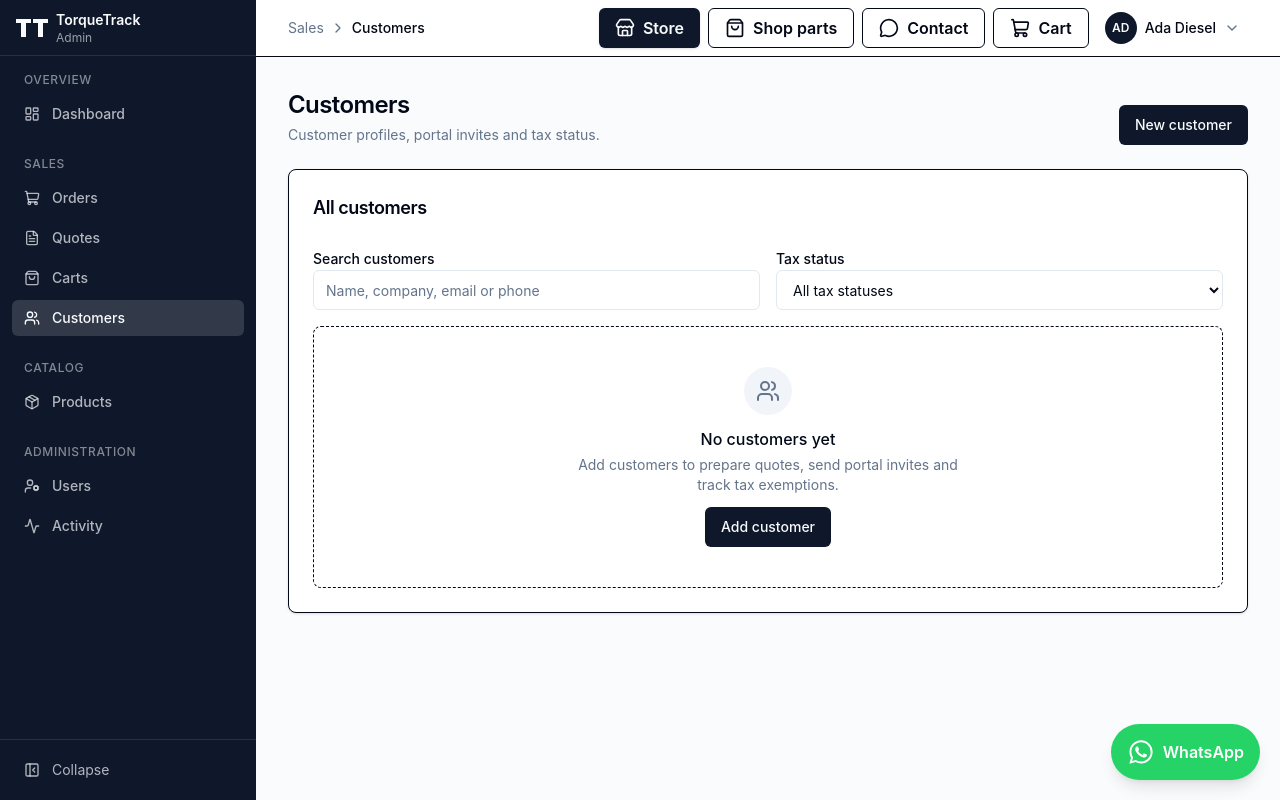
it: CustomersPage › shows the 409 when the email belongs to another customer
This screenshot has width=1280, height=800.
Click the button "New customer" at {"x": 1183, "y": 125}, box [1119, 105, 1248, 145]
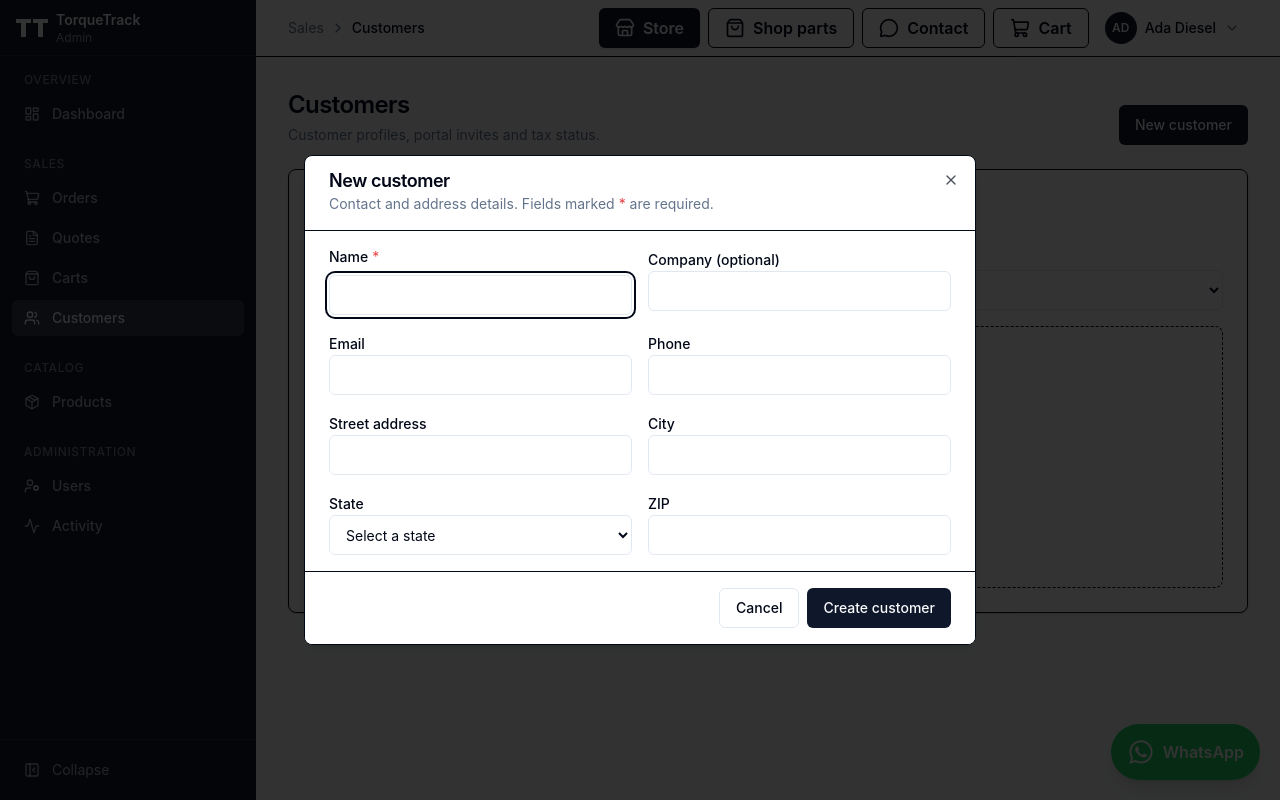
Type "Pat Fleet" into the field labelled "Name" at {"x": 480, "y": 295}, box [329, 275, 632, 315]
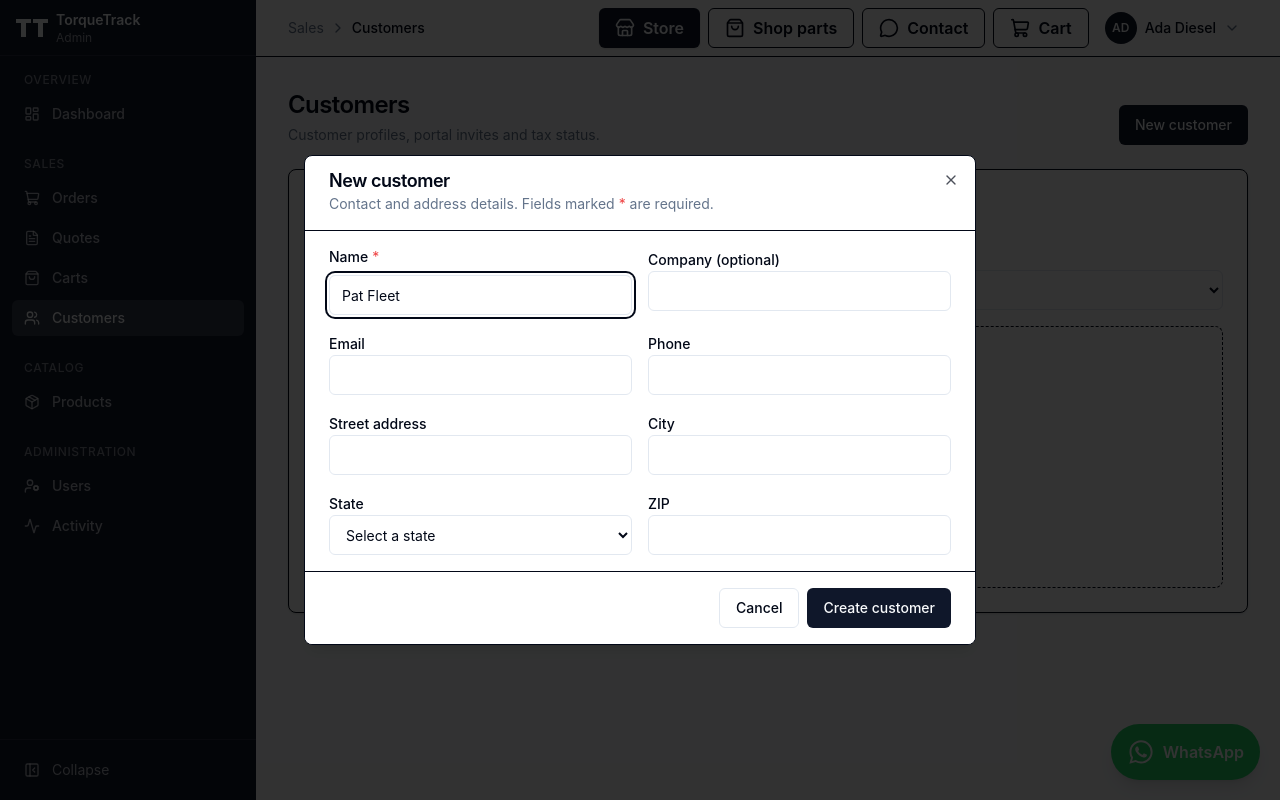
Type "pat@example.com" into the field labelled "Email" at {"x": 480, "y": 375}, box [329, 355, 632, 395]
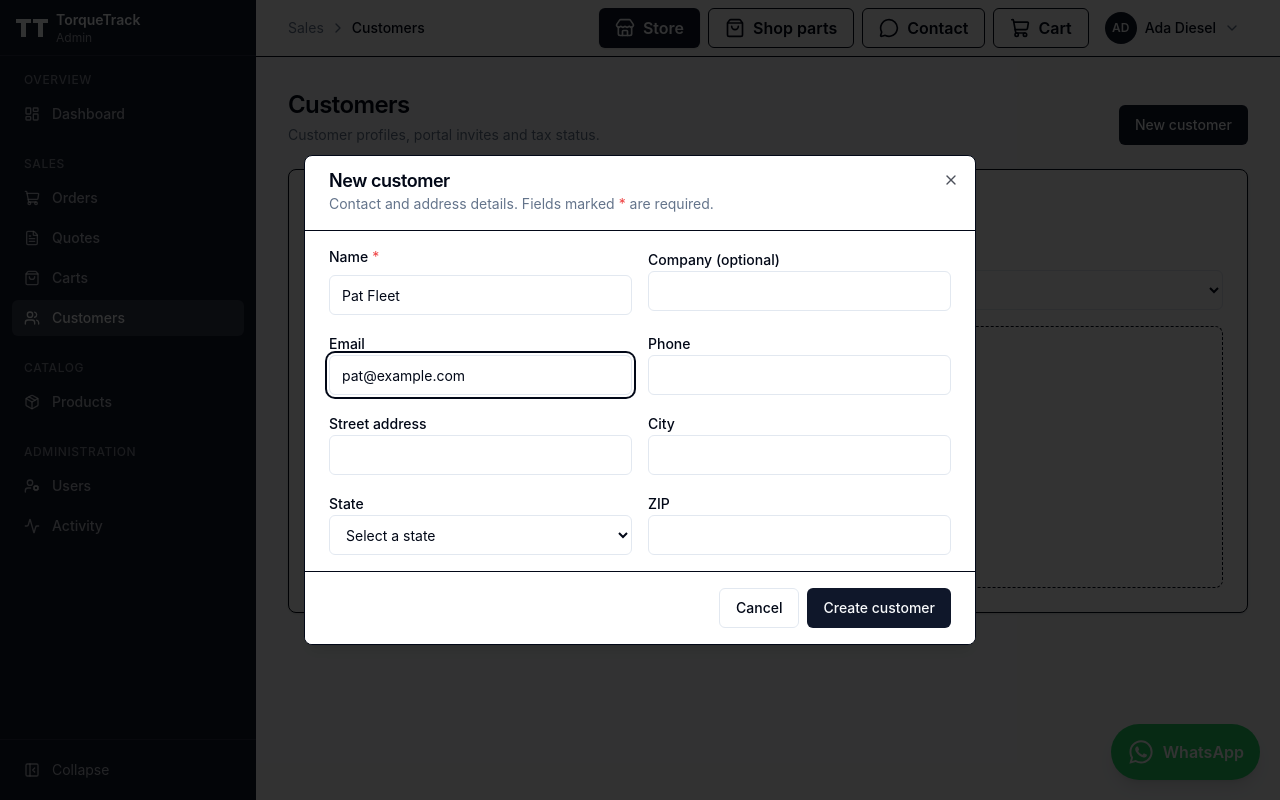
Click the button "Create customer" at {"x": 879, "y": 608}, box [808, 588, 951, 628]
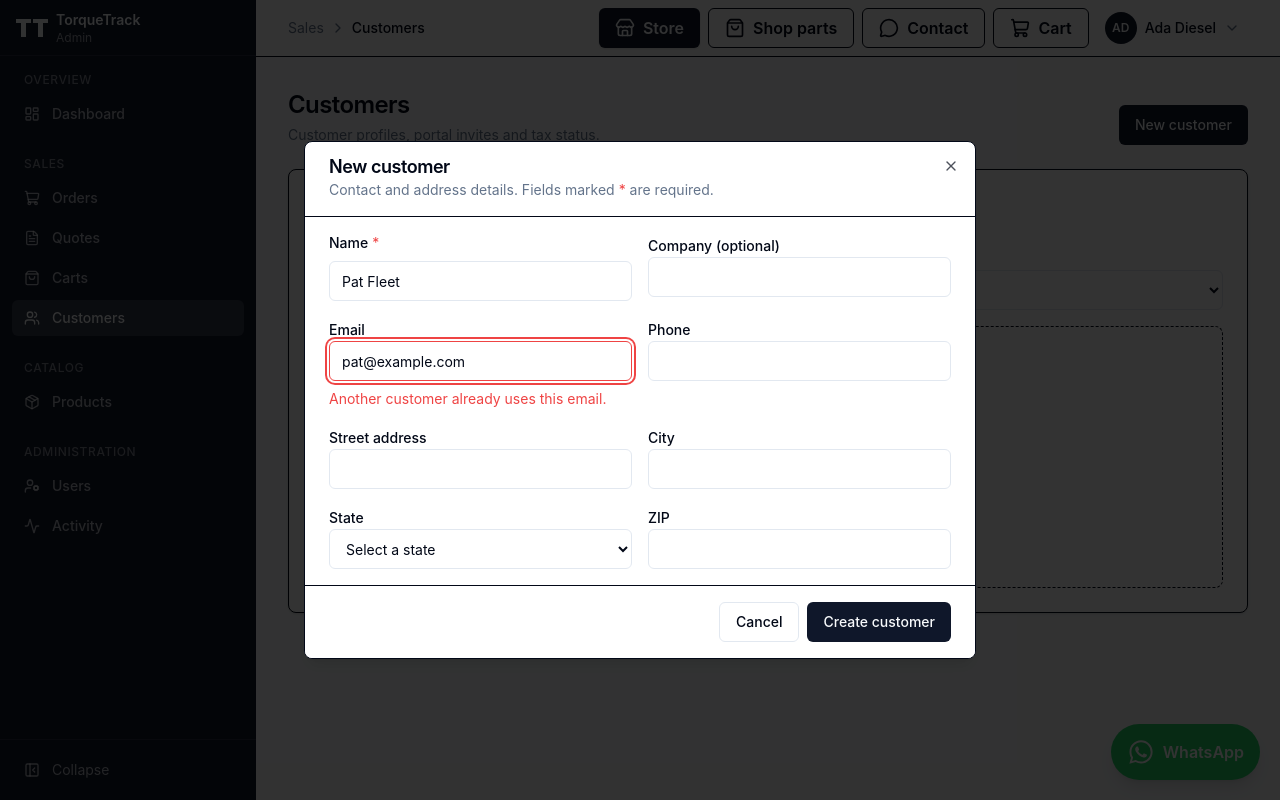
Now the text "Another customer already uses this email." is shown, box [329, 389, 632, 409]
